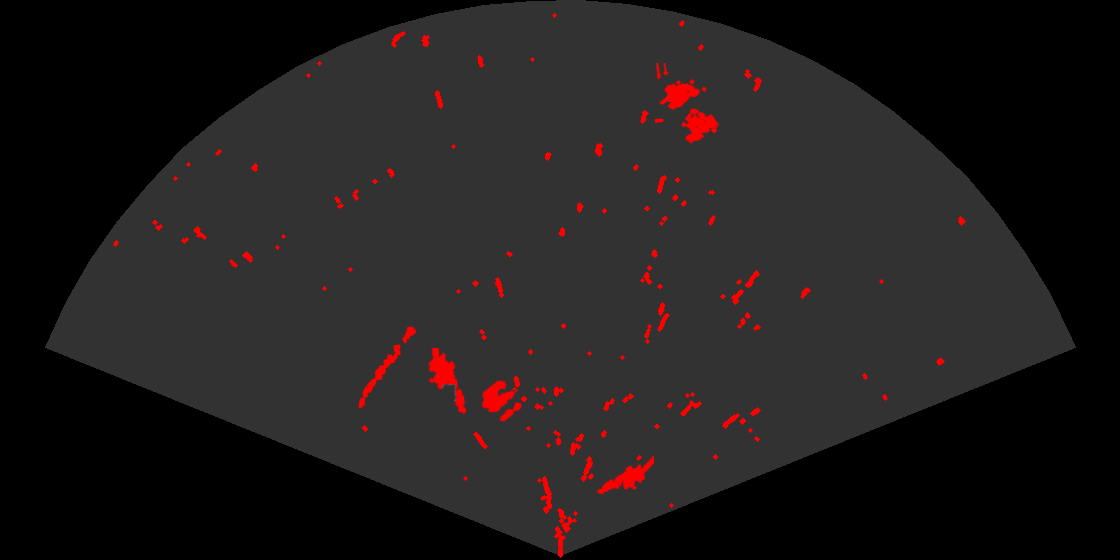ball: (480, 379, 524, 423)
cage: (655, 63, 719, 145)
chain: (357, 325, 418, 410)
frogman: (426, 348, 468, 416), (595, 453, 654, 496)
